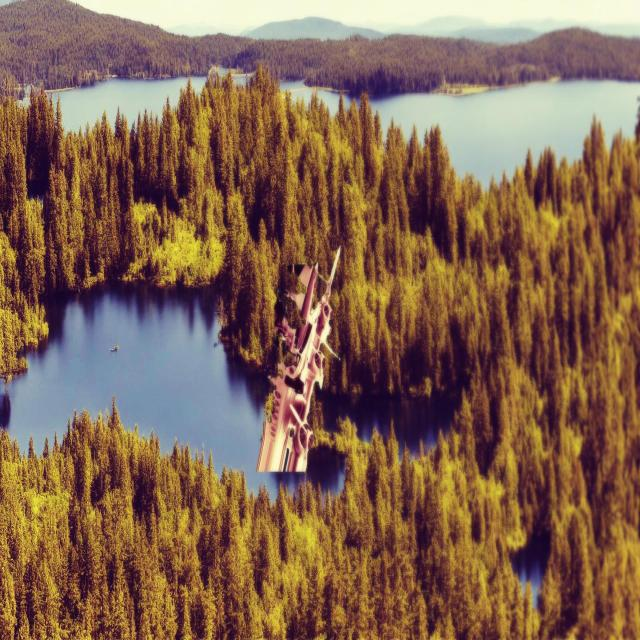airplane: (256, 245, 342, 473)
